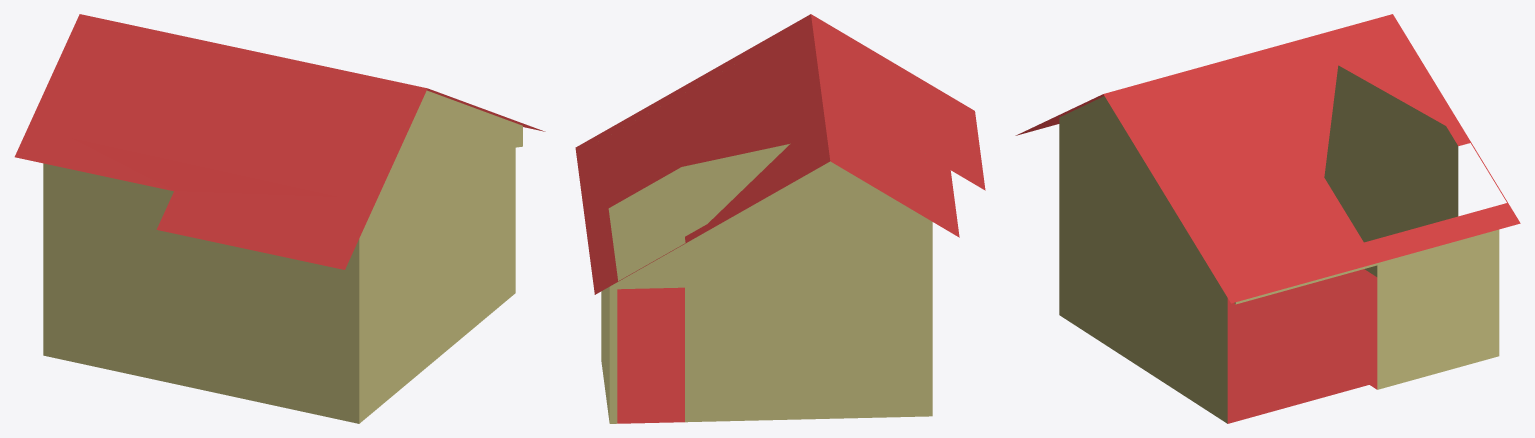
3 views of the same model, side by side, from view 1: azimuth 30°, elevation 25°; view 2: azimuth 150°, elevation 25°; view 3: azimuth 270°, elevation 25° (orthographic). The views are drawn at different scales.
Size of the model in its own units: 23.72 by 24.41 by 13.91.
